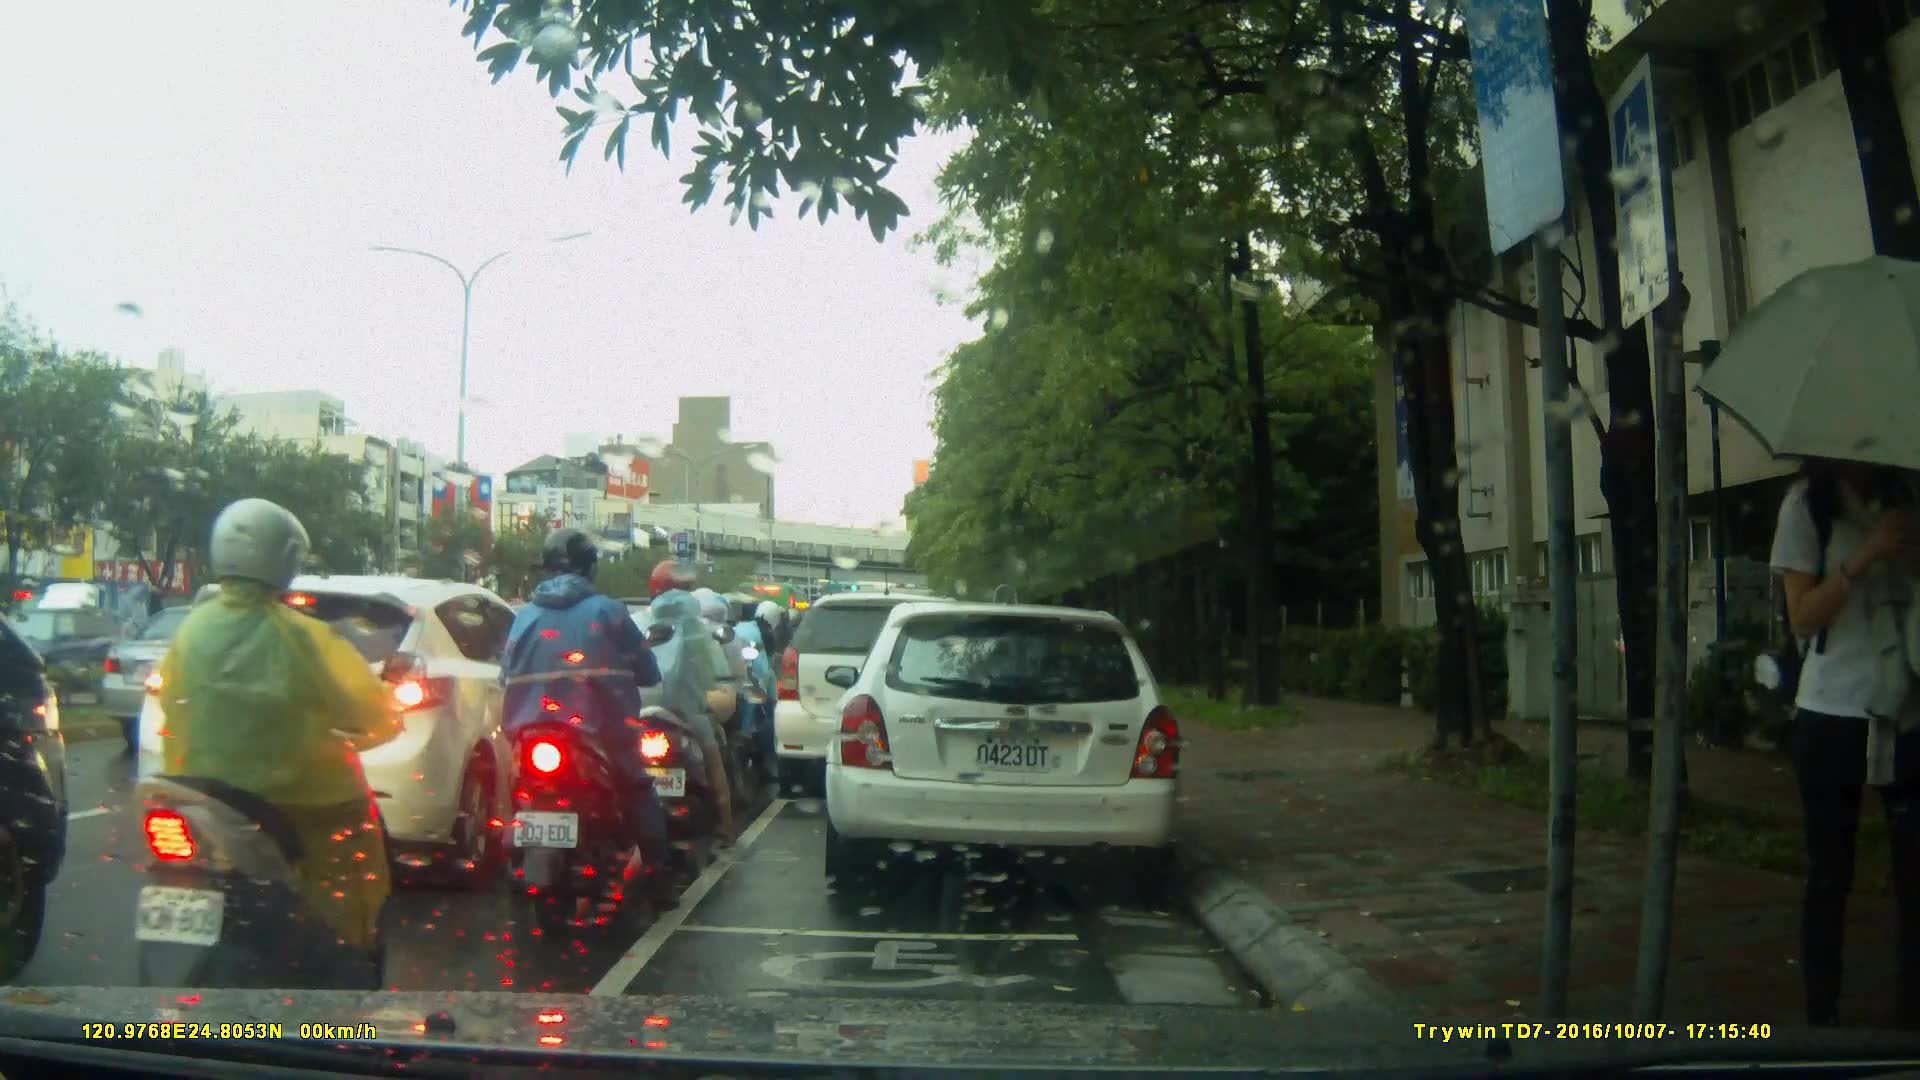pedestrian: (1773, 406, 1915, 1022)
rider: (126, 488, 424, 1045), (493, 525, 682, 924), (600, 560, 739, 855), (643, 581, 763, 823), (720, 594, 788, 767)
vehicle: (133, 571, 590, 880), (822, 604, 1188, 883), (774, 595, 995, 802), (101, 601, 357, 753), (20, 576, 199, 697)
